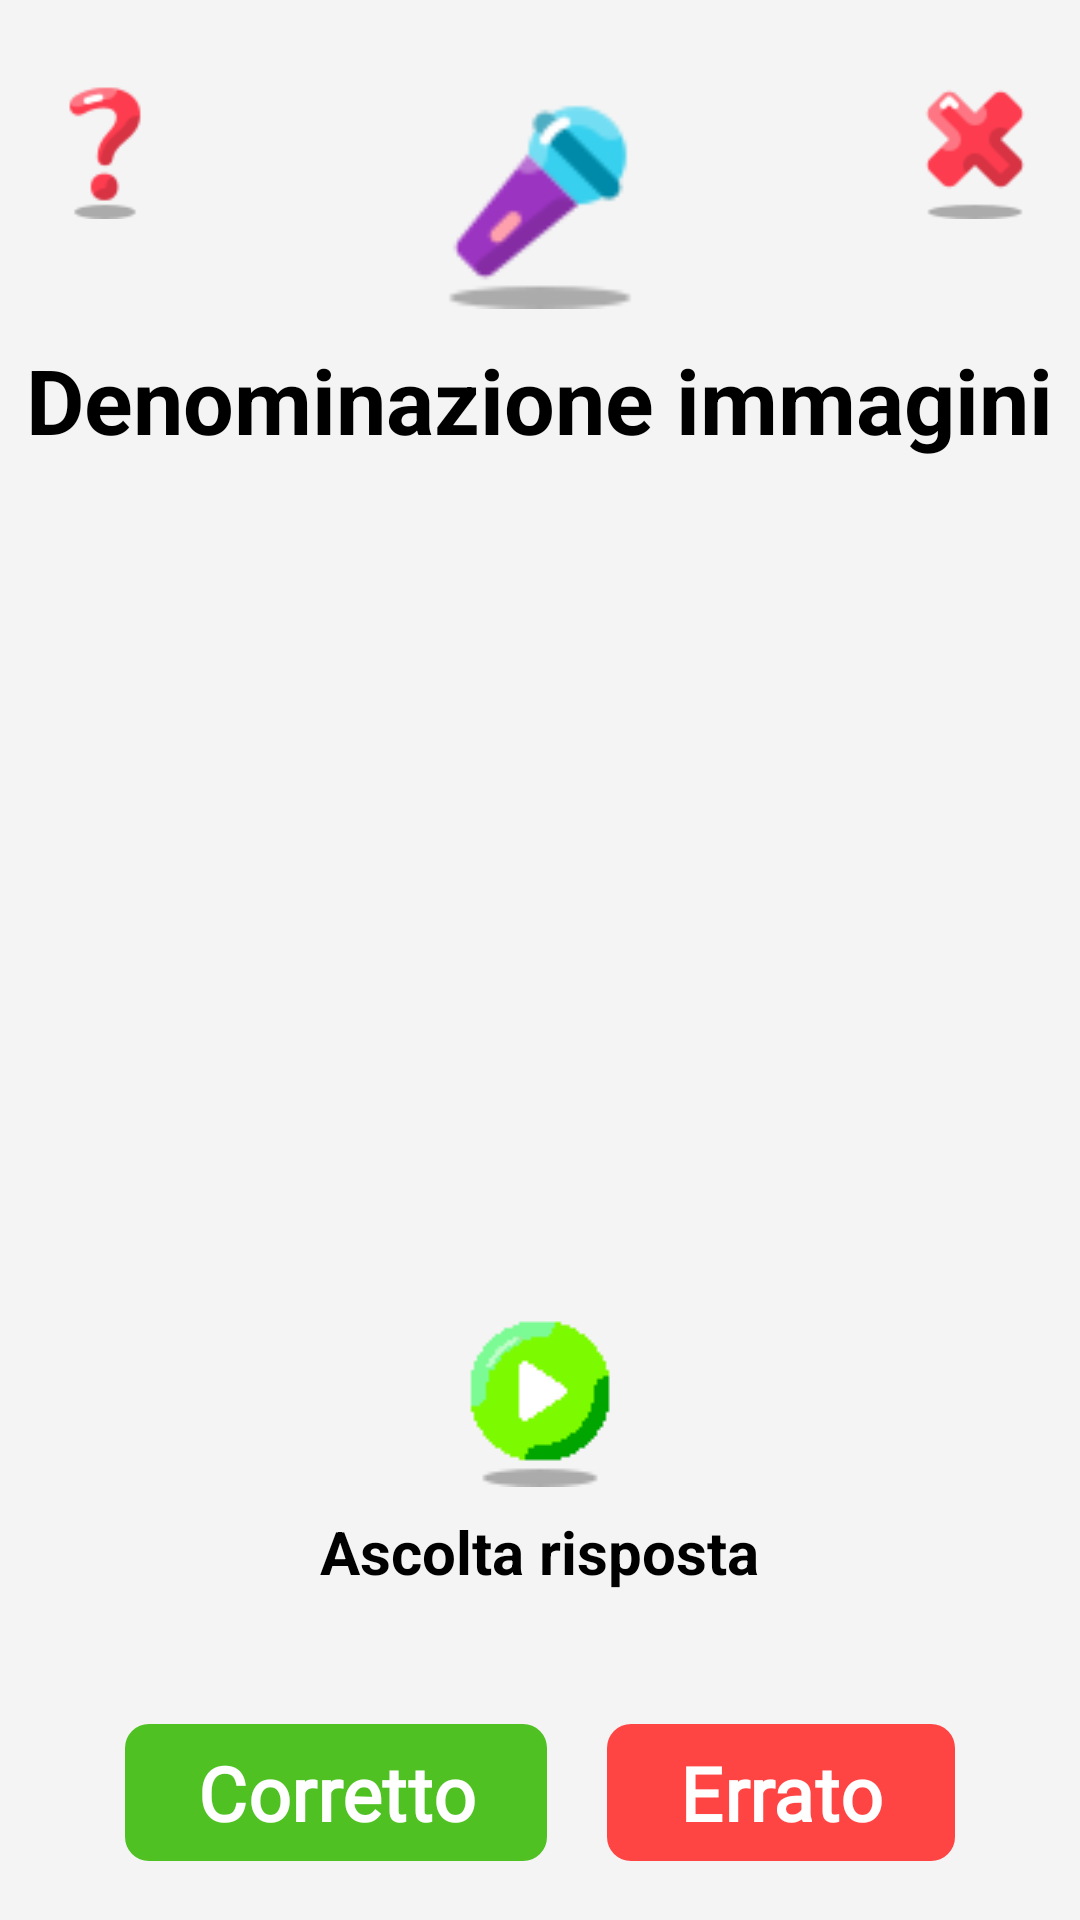

Screen size 1080x1920. Icon name, then its box in pixels as bbox=(x1, y1, x2, y2):
exit: bbox=(926, 91, 1024, 219)
help: bbox=(69, 87, 141, 219)
play: bbox=(470, 1321, 610, 1487)
speak: bbox=(450, 105, 630, 309)
